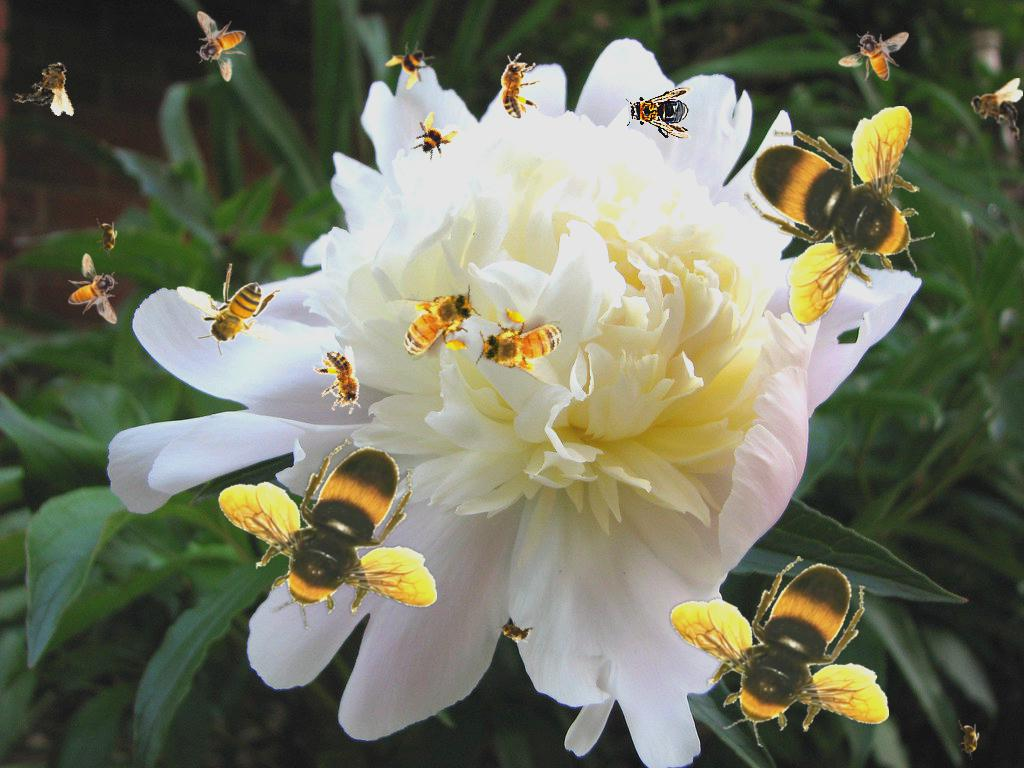Bee: (744, 106, 935, 326), (669, 556, 889, 747), (217, 439, 437, 630), (469, 298, 579, 393), (176, 263, 287, 357), (383, 282, 487, 365), (308, 343, 374, 422), (12, 52, 85, 120), (380, 33, 444, 97), (401, 106, 463, 168), (838, 31, 909, 81), (68, 253, 118, 324), (196, 11, 246, 82), (625, 87, 693, 139), (970, 78, 1023, 140), (495, 53, 540, 119), (492, 613, 538, 649), (958, 720, 980, 760), (96, 218, 118, 258)
